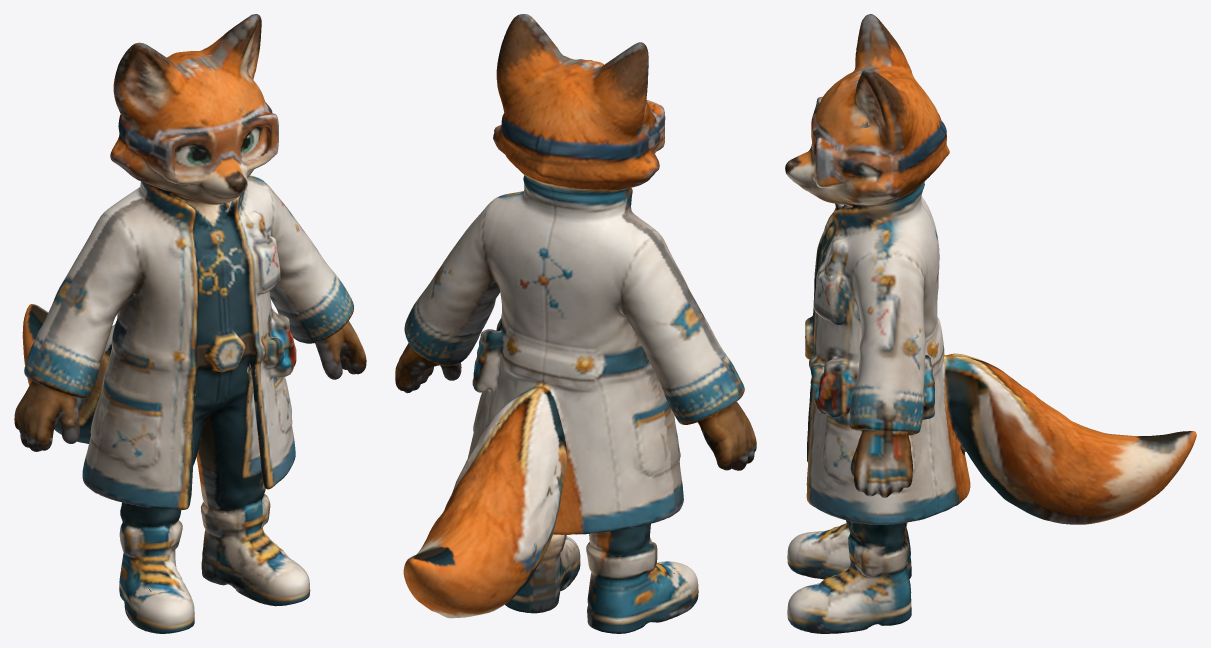
File: material-review-v4.glb
3 views of the same model, side by side, from view 1: azimuth 30°, elevation 25°; view 2: azimuth 150°, elevation 25°; view 3: azimuth 270°, elevation 25° (orthographic). The views are drawn at different scales.
Visible parts, largest first — view 1: fox-scientist | textured review.001; view 2: fox-scientist | textured review.001; view 3: fox-scientist | textured review.001.
Part boxes in pixels (<box>): fox-scientist | textured review.001: <box>14,14,366,633</box>; fox-scientist | textured review.001: <box>395,14,756,633</box>; fox-scientist | textured review.001: <box>785,14,1196,633</box>.
Size of the model in its own units: 1.1 by 1.75 by 1.18.
Materials: 1 (1 with a texture image).
